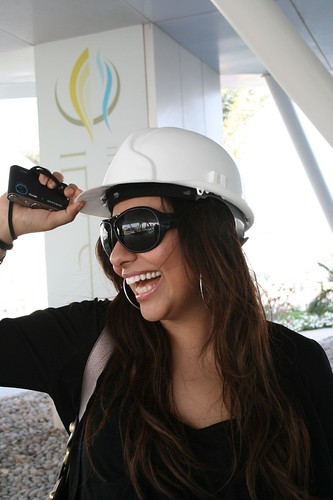person hardhat: (1, 124, 333, 500)
